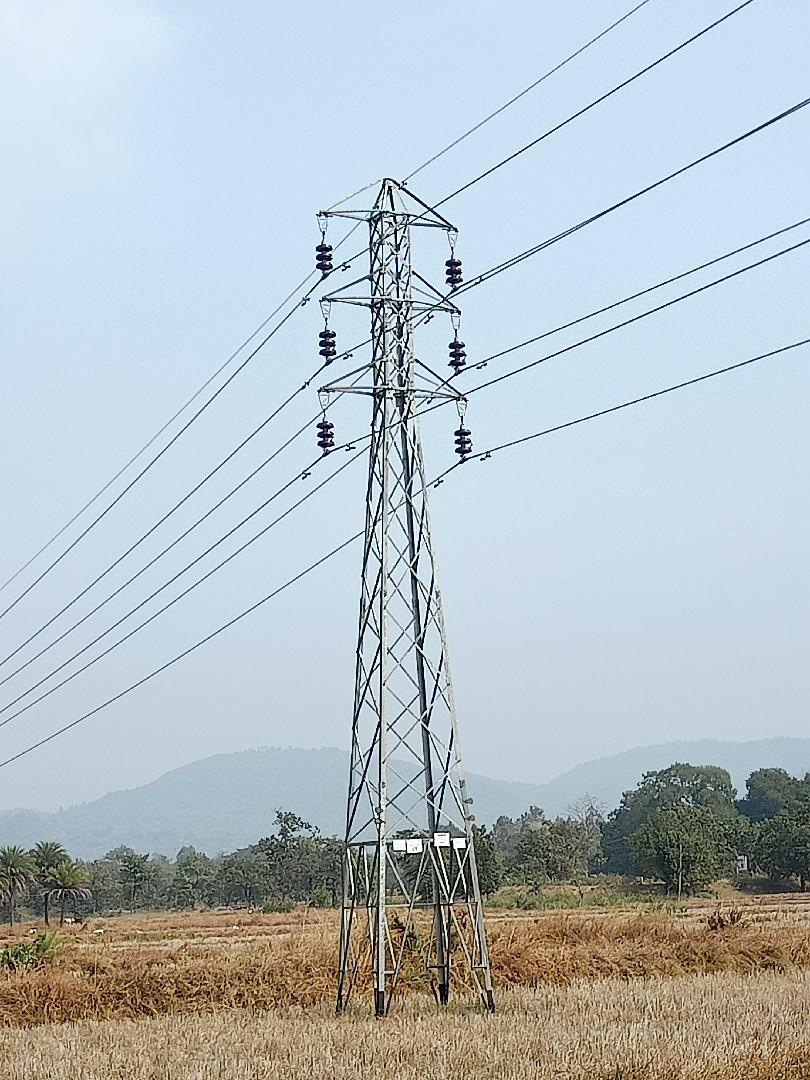GSM Antenna: (309, 171, 498, 973)
